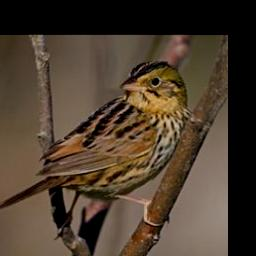Sparrow: (0, 58, 193, 240)
